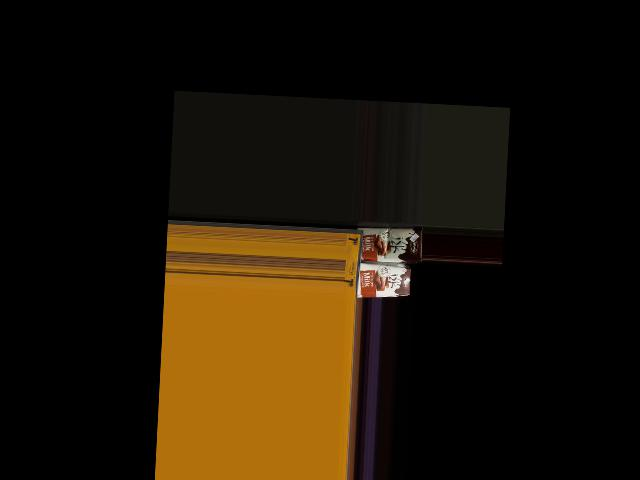chocolate: (350, 262, 412, 303)
